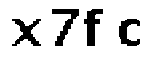7: (48, 5, 82, 49)
c: (116, 17, 143, 52)
f: (84, 8, 108, 50)
x: (7, 15, 43, 49)
